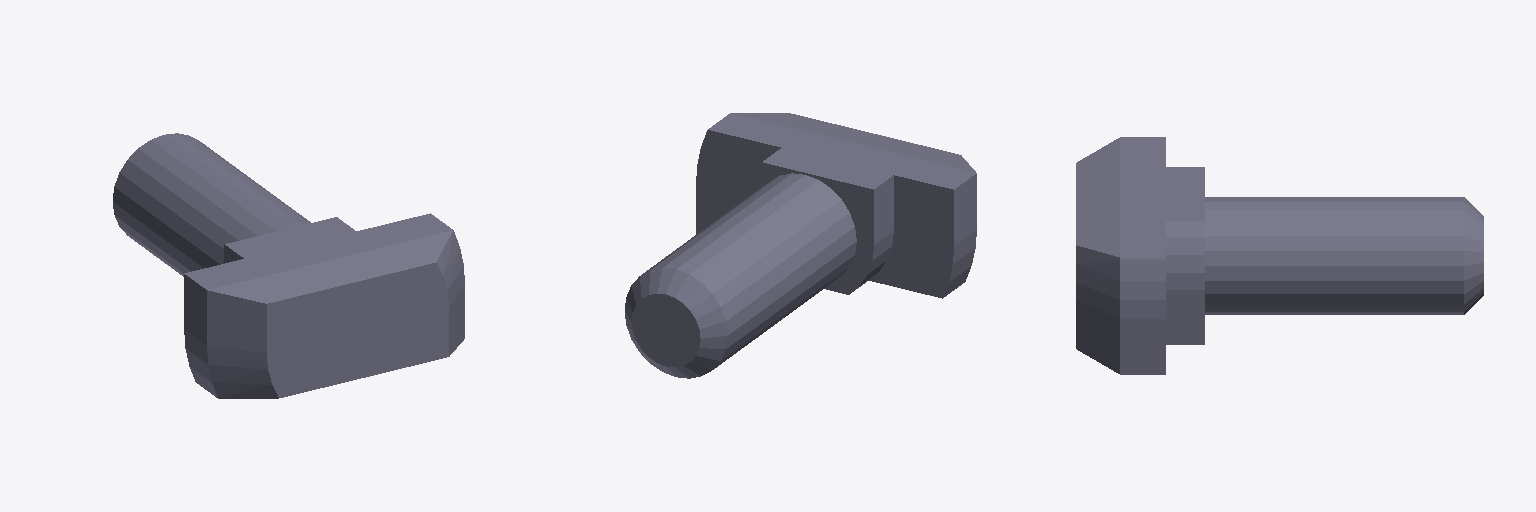
The model's file is T_BOLT_M6X16.obj.
The picture shows the model from 3 angles: view 1: azimuth 30°, elevation 25°; view 2: azimuth 150°, elevation 25°; view 3: azimuth 270°, elevation 25°; orthographic projection.
Visible parts, largest first — view 1: bosch_[number redacted]_a0j4e8r3tvusf5w9c0act7s3s_1; view 2: bosch_[number redacted]_a0j4e8r3tvusf5w9c0act7s3s_1; view 3: bosch_[number redacted]_a0j4e8r3tvusf5w9c0act7s3s_1.
Boxes of the visible parts, x1,y1,x2,y2 form: bosch_[number redacted]_a0j4e8r3tvusf5w9c0act7s3s_1: [113, 133, 464, 398]; bosch_[number redacted]_a0j4e8r3tvusf5w9c0act7s3s_1: [625, 113, 976, 378]; bosch_[number redacted]_a0j4e8r3tvusf5w9c0act7s3s_1: [1076, 137, 1483, 374].
Size of the model in its own units: 15 by 6.2 by 20.5.